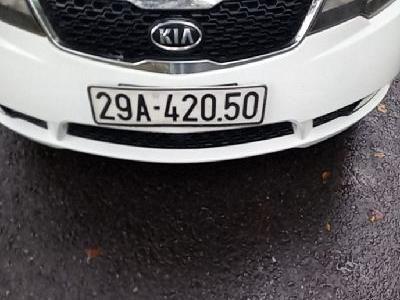lisence: (87, 84, 269, 128)
